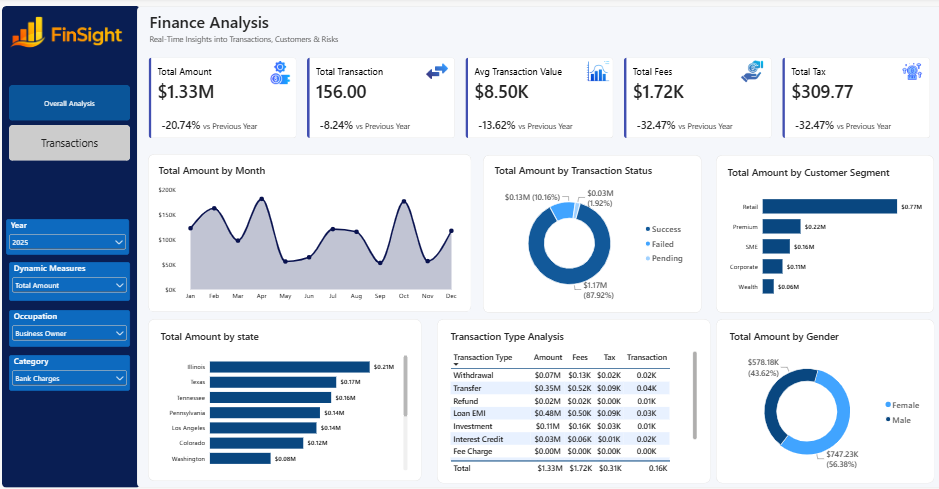

The dashboard page shown, as its layout file describes it:
{"tool":"powerbi","page":{"name":"Overall Analysis","canvas":[1800,950],"ordinal":0},"visuals":[{"type":"shape","box":[7.7,15.5,263.2,915.5],"z":0},{"type":"shape","box":[263.2,15.5,1531,915.5],"z":1000},{"type":"image","box":[15.5,19.4,234.2,92.9],"z":2000},{"type":"cardVisual","fields":{"Data":["finance_transactions.Dashboard Title"]},"box":[271.8,15.5,402.6,83.2],"z":3000},{"type":"cardVisual","fields":{"Data":["finance_transactions.Total Amount","finance_transactions.Total Transaction","finance_transactions.Avg Transaction Value","finance_transactions.Total Fees","finance_transactions.Total Tax"]},"box":[284.5,112.3,1488,155],"z":4000},{"type":"slicer","fields":{"Values":["Calendar Table.Year"]},"box":[16,420,234,68],"z":5000},{"type":"image","box":[512,119,50,44],"z":6000},{"type":"image","box":[810,118.3,50,43.3],"z":7000},{"type":"image","box":[1115,118.3,50,43.3],"z":8000},{"type":"image","box":[1408.3,118.3,50,43.3],"z":9000},{"type":"image","box":[1711.7,118.3,50,43.3],"z":10000},{"type":"slicer","fields":{"Values":["Dynamic Measures.Dynamic Measures"]},"box":[20,502,230,74],"z":11000},{"type":"shape","box":[284.4,296.7,614.4,300],"z":12000},{"type":"areaChart","fields":{"Category":["Calendar Table.Month"],"Y":["finance_transactions.Total Amount"]},"box":[288.9,300,606.7,294.4],"z":13000},{"type":"shape","box":[922.2,297.8,415.6,300],"z":14000},{"type":"donutChart","fields":{"Category":["finance_transactions.transaction_status"],"Y":["finance_transactions.Total Amount"]},"box":[927.8,301.1,400,292.2],"z":15000},{"type":"shape","box":[1364.4,298.9,414.4,300],"z":16000},{"type":"barChart","fields":{"Category":["customers.customer_segment"],"Y":["finance_transactions.Total Amount"]},"box":[1370,303.3,403.3,290],"z":17000},{"type":"shape","box":[285,610,520,308],"z":18000},{"type":"barChart","fields":{"Category":["customers.state"],"Y":["finance_transactions.Total Amount"]},"box":[293.3,615,501.7,298.3],"z":19000},{"type":"shape","box":[835,610,520,312.5],"z":20000},{"type":"tableEx","title":"Transaction Type Analysis","fields":{"Values":["finance_transactions.transaction_type","finance_transactions.Total Amount","finance_transactions.Total Fees","finance_transactions.Total Tax","finance_transactions.Total Transaction"]},"box":[843.8,615,501.2,305],"z":21000},{"type":"shape","box":[1365,610,415,312.5],"z":21001},{"type":"donutChart","fields":{"Category":["customers.gender"],"Y":["finance_transactions.Total Amount"]},"box":[1374,615,402,301],"z":21002},{"type":"slicer","fields":{"Values":["customers.occupation"]},"box":[20,592,230,70],"z":21003},{"type":"slicer","fields":{"Values":["finance_transactions.merchant_category"]},"box":[20,678,230,68],"z":21004},{"type":"pageNavigator","box":[20,166,230,144],"z":21005}]}

Visuals, with their boxes in screenshot pixels (x1, y1, x2, y2), scaled from the page's 1800x950 canvas onto the 939x489 screenshot:
shape: crop(4, 8, 141, 479)
shape: crop(137, 8, 936, 479)
image: crop(8, 10, 130, 58)
cardVisual - finance_transactions.Dashboard Title: crop(142, 8, 352, 51)
cardVisual - finance_transactions.Total Amount x finance_transactions.Total Transaction: crop(148, 58, 925, 138)
slicer - Calendar Table.Year: crop(8, 216, 130, 251)
image: crop(267, 61, 293, 84)
image: crop(423, 61, 449, 83)
image: crop(582, 61, 608, 83)
image: crop(735, 61, 761, 83)
image: crop(893, 61, 919, 83)
slicer - Dynamic Measures.Dynamic Measures: crop(10, 258, 130, 296)
shape: crop(148, 153, 469, 307)
areaChart - Calendar Table.Month x finance_transactions.Total Amount: crop(151, 154, 467, 306)
shape: crop(481, 153, 698, 308)
donutChart - finance_transactions.transaction_status x finance_transactions.Total Amount: crop(484, 155, 693, 305)
shape: crop(712, 154, 928, 308)
barChart - customers.customer_segment x finance_transactions.Total Amount: crop(715, 156, 925, 305)
shape: crop(149, 314, 420, 473)
barChart - customers.state x finance_transactions.Total Amount: crop(153, 317, 415, 470)
shape: crop(436, 314, 707, 475)
"Transaction Type Analysis" tableEx: crop(440, 317, 702, 474)
shape: crop(712, 314, 929, 475)
donutChart - customers.gender x finance_transactions.Total Amount: crop(717, 317, 926, 471)
slicer - customers.occupation: crop(10, 305, 130, 341)
slicer - finance_transactions.merchant_category: crop(10, 349, 130, 384)
pageNavigator: crop(10, 85, 130, 160)
